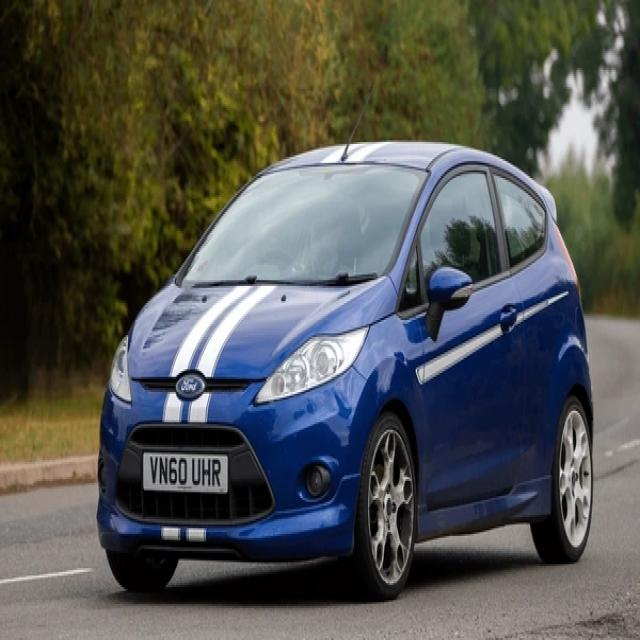ford: (177, 374, 206, 398)
